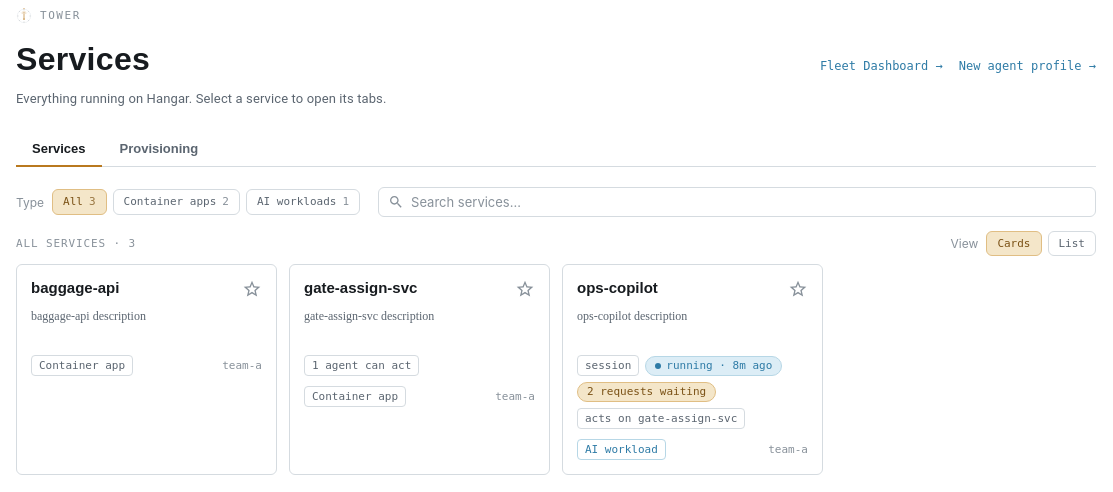
AppPicker with the Autopilot plugin mounted (the fleet summary, 2026-10-31) › shows an agent's live state and scope on its card, counts agents on an app, searches by scope, links to New agent
Expected: the text "ops-copilot" is shown, top-left (577, 279), bottom-right (658, 296)
Expected: the text "running · 8m ago" is shown, top-left (645, 356), bottom-right (782, 376)
// "gate" is not in ops-copilot's name or description, but it acts on gate-assign-svc.
Type "gate-assign" into the search field with placeholder "Search services…". click: (737,202)
box: top-left (378, 187), bottom-right (1096, 217)
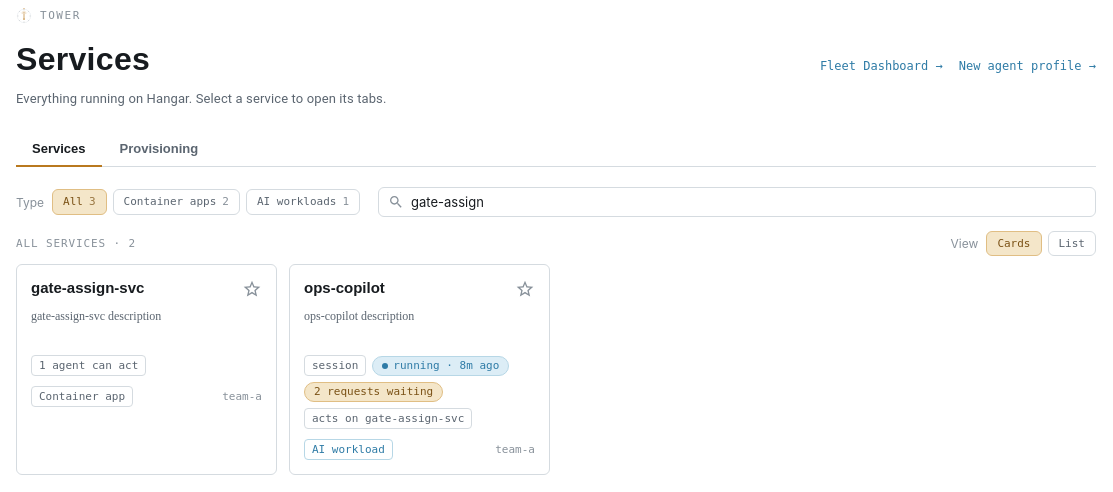
Expected: the text "ops-copilot" is shown, top-left (304, 279), bottom-right (385, 296)
Expected: the button "baggage-api" is gone
